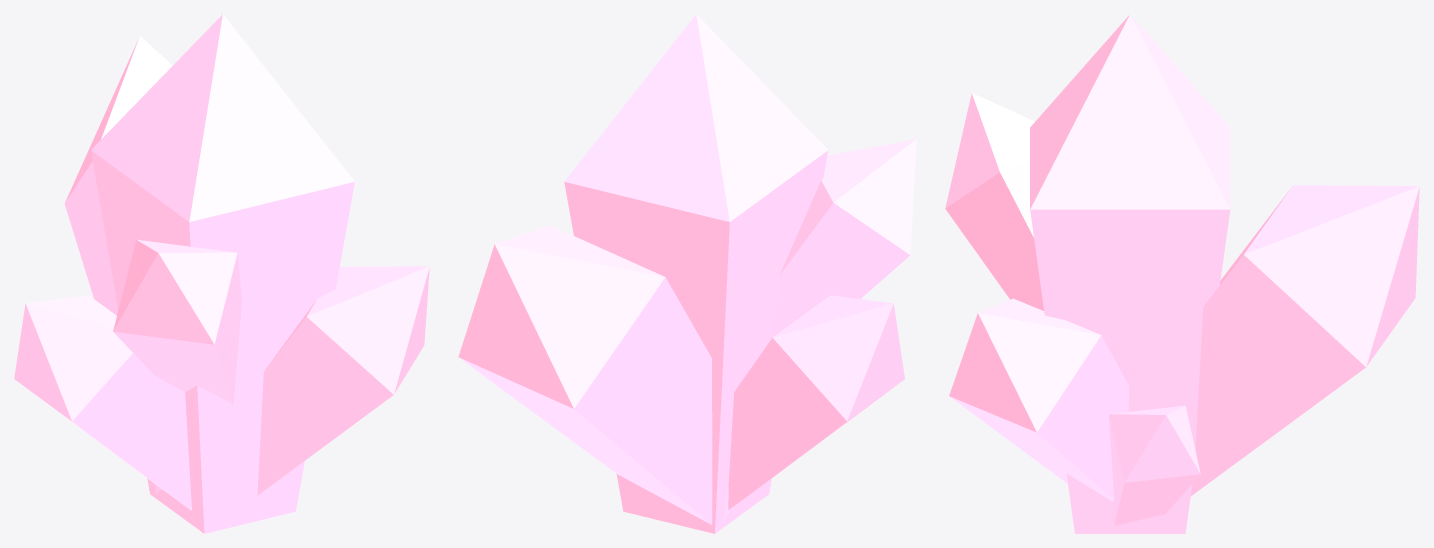
File: crystal.fbx
The picture shows the model from 3 angles, left to right: view 1: azimuth 30°, elevation 25°; view 2: azimuth 150°, elevation 25°; view 3: azimuth 270°, elevation 25°; orthographic projection.
Visible parts, largest first — view 1: Cube.001; view 2: Cube.001; view 3: Cube.001.
Part boxes in pixels (bbox=[...]): Cube.001: bbox=[14, 14, 429, 533]; Cube.001: bbox=[458, 14, 916, 533]; Cube.001: bbox=[945, 14, 1419, 533].
Bounding box in the file's own units: 414 × 548 × 474.
